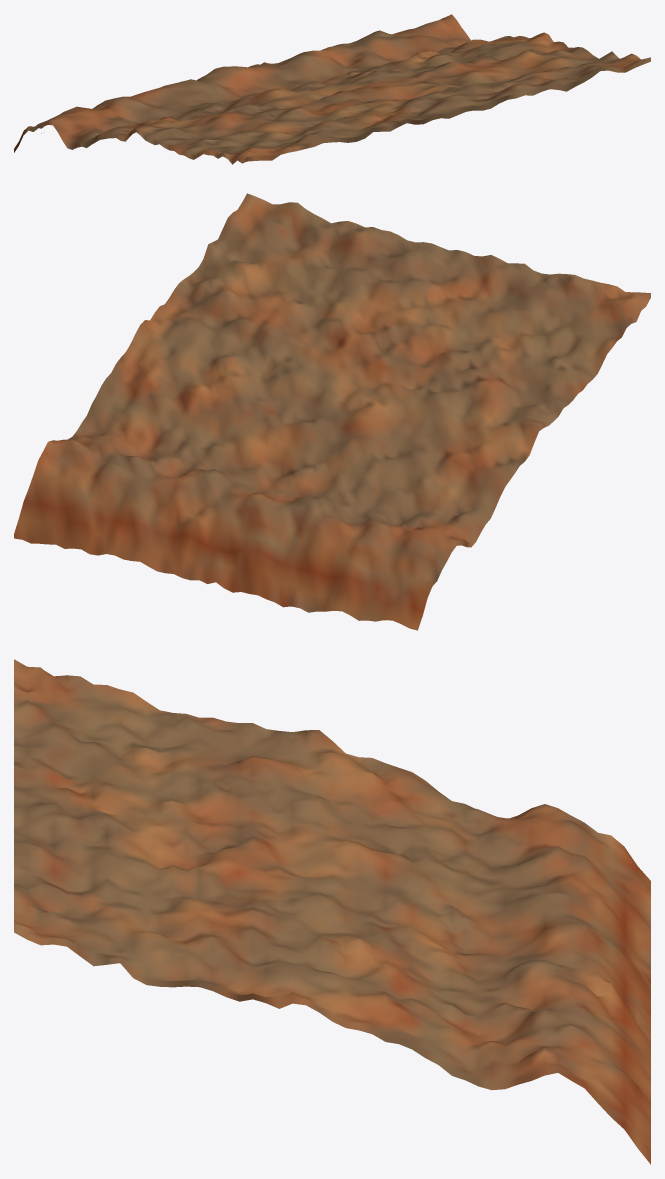
File: terrain-163.glb
3 renders of one model, top to bottom at view 1: azimuth 30°, elevation 25°; view 2: azimuth 150°, elevation 25°; view 3: azimuth 270°, elevation 25°, orthographic. The views are drawn at different scales.
Parts seen in each view (by area): view 1: terrain-163; view 2: terrain-163; view 3: terrain-163.
Part boxes in pixels (bbox=[...]): terrain-163: bbox=[14, 14, 650, 164]; terrain-163: bbox=[14, 193, 650, 630]; terrain-163: bbox=[14, 659, 650, 1164].
Size of the model in its own units: 384 by 164 by 384.
